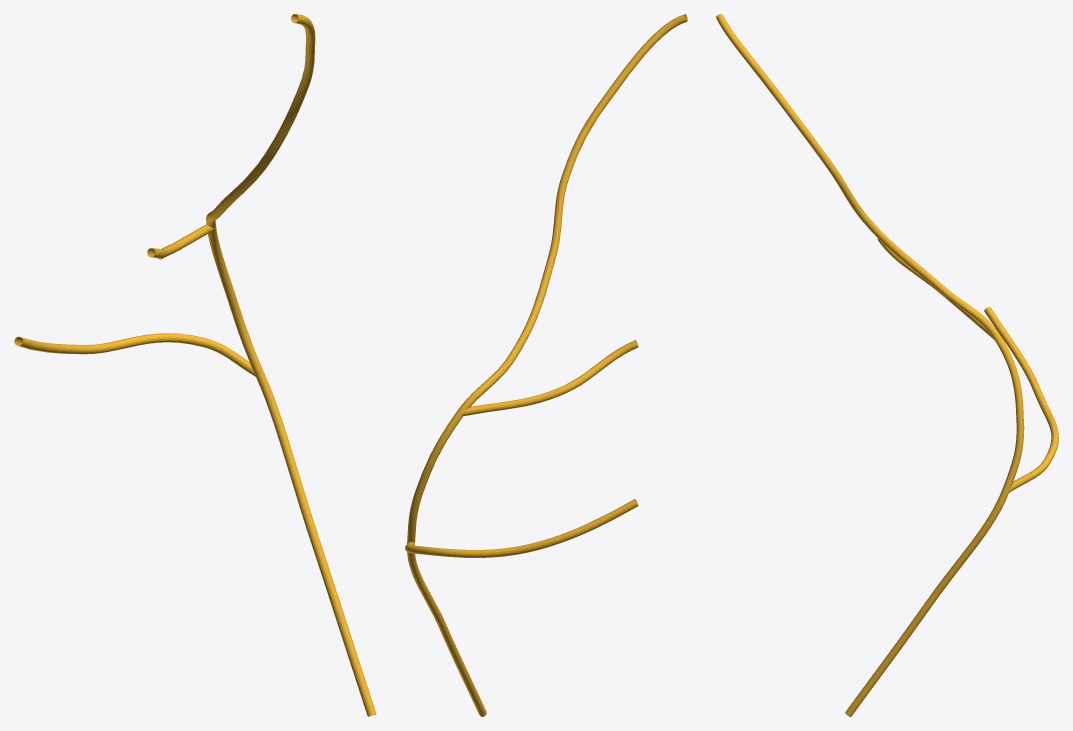
Rendered from nervoso-posterior-root-of-posterior-femoral-cutaneous-nerve-l.glb.
3 renders of one model, left to right at view 1: azimuth 30°, elevation 25°; view 2: azimuth 150°, elevation 25°; view 3: azimuth 270°, elevation 25°, orthographic. The views are drawn at different scales.
Visible parts, largest first — view 1: Posterior root of posterior femoral cutaneous nerve.l; view 2: Posterior root of posterior femoral cutaneous nerve.l; view 3: Posterior root of posterior femoral cutaneous nerve.l.
Boxes of the visible parts, box(x1,y1,x2,y2) form: Posterior root of posterior femoral cutaneous nerve.l: box(14, 14, 376, 716); Posterior root of posterior femoral cutaneous nerve.l: box(405, 14, 687, 716); Posterior root of posterior femoral cutaneous nerve.l: box(716, 14, 1058, 716).
Size of the model in its own units: 0.0334 by 0.0935 by 0.0453.
